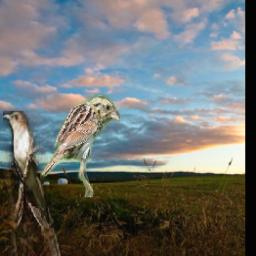Cuckoo: (4, 111, 62, 256)
Sparrow: (40, 95, 120, 198)
